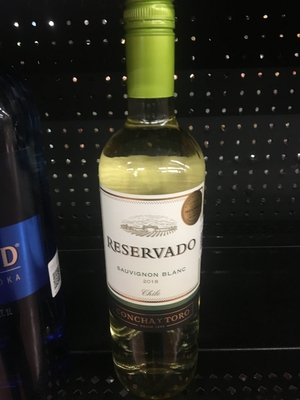reservado sauvignon blanc: (80, 12, 223, 369)
